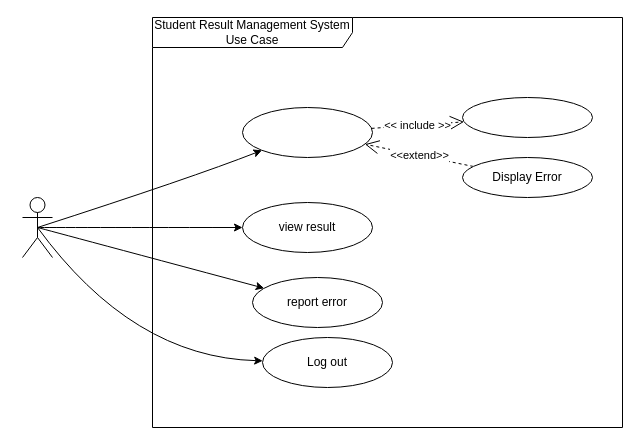
This 640x445 diagram has some shape labels left out. The shapes that lost their labels are listed below. From the top down, each one's box as (x1, y1, x2, y2) in pixels, then its label:
(242, 106, 372, 158): Log in
(462, 96, 592, 138): validate
(22, 196, 52, 258): Student
